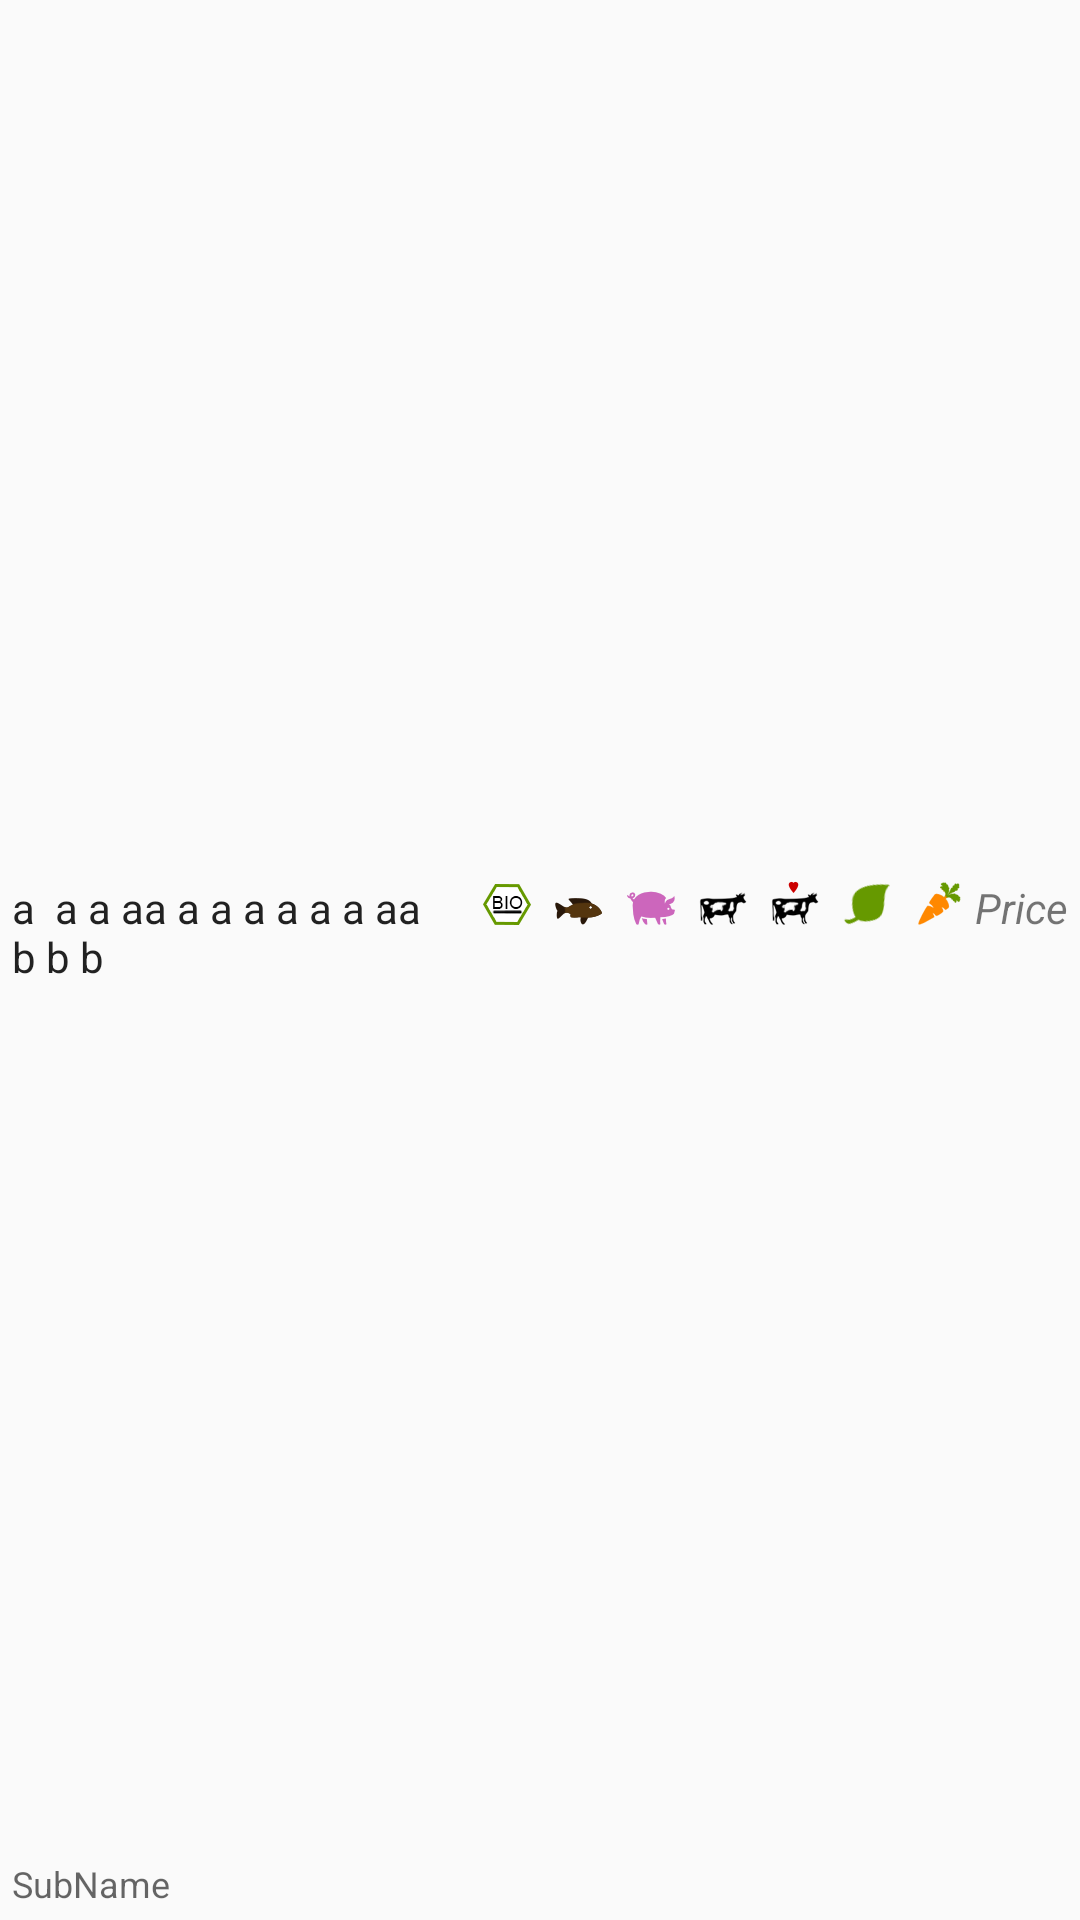

Screen size 1080px×1920px. Icon name, then its box in pixels as [left=x1, top=y1, right=x2, bottom=y2]:
meal cow: [left=700, top=892, right=746, bottom=925]
meal cow aw: [left=772, top=882, right=818, bottom=925]
meal fish: [left=555, top=898, right=602, bottom=925]
meal pork: [left=627, top=891, right=675, bottom=925]
meal veg: [left=918, top=882, right=961, bottom=925]
meal vegan: [left=844, top=884, right=890, bottom=924]
